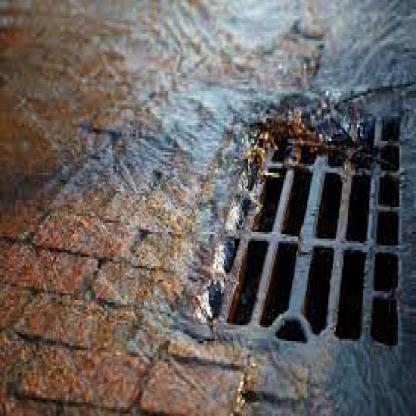open drainage-not overflowing-: (214, 97, 411, 380)
